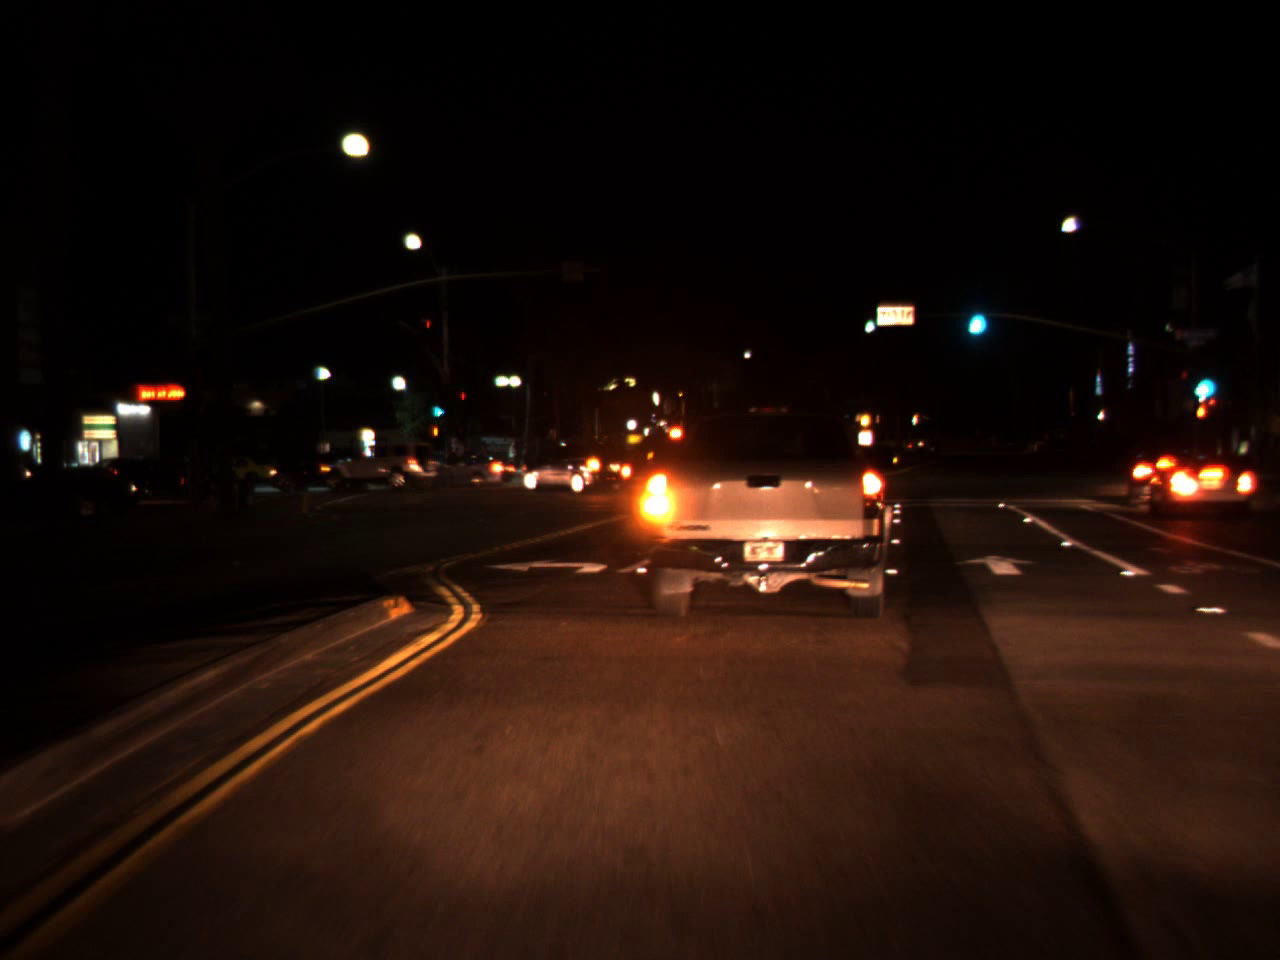go: (1188, 354, 1218, 405), (962, 289, 989, 343), (427, 388, 447, 424), (862, 309, 876, 336)
